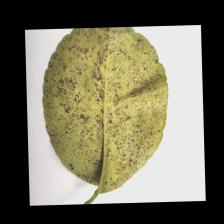canker: (58, 63, 145, 157)
